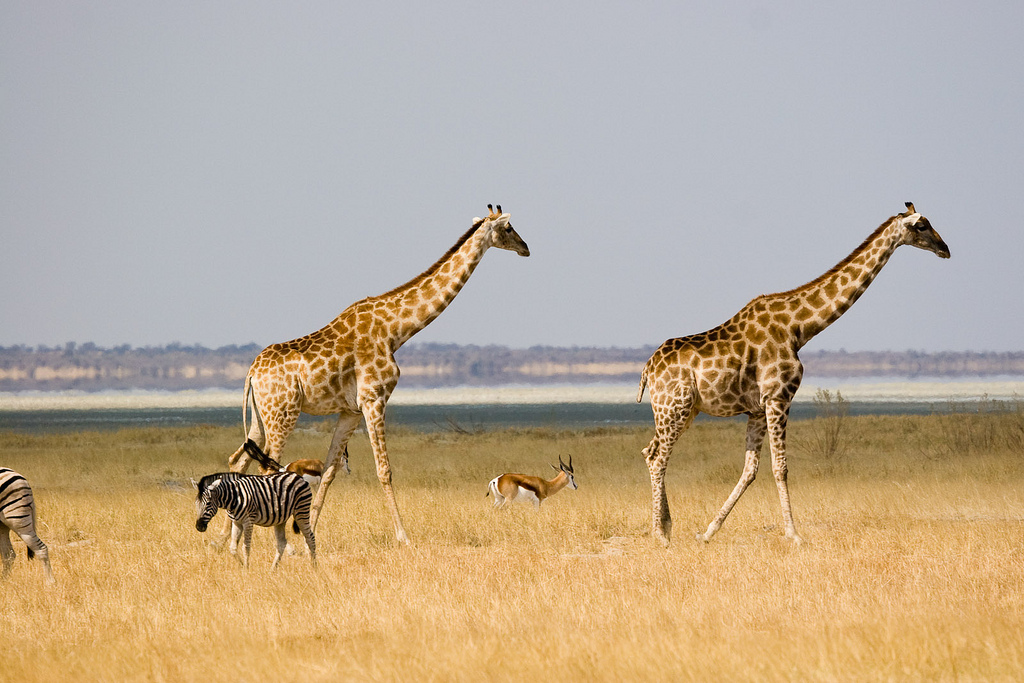giraffe: (628, 197, 966, 580), (231, 193, 571, 531)
